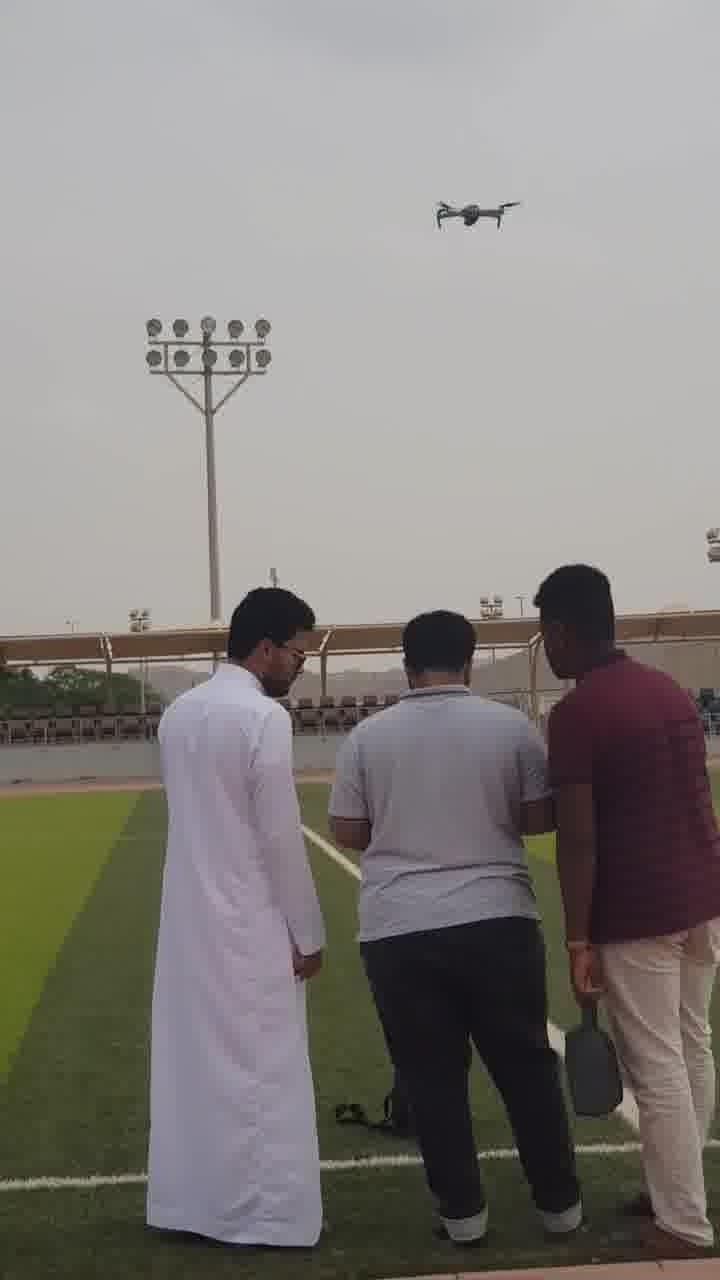drone: (426, 188, 524, 233)
